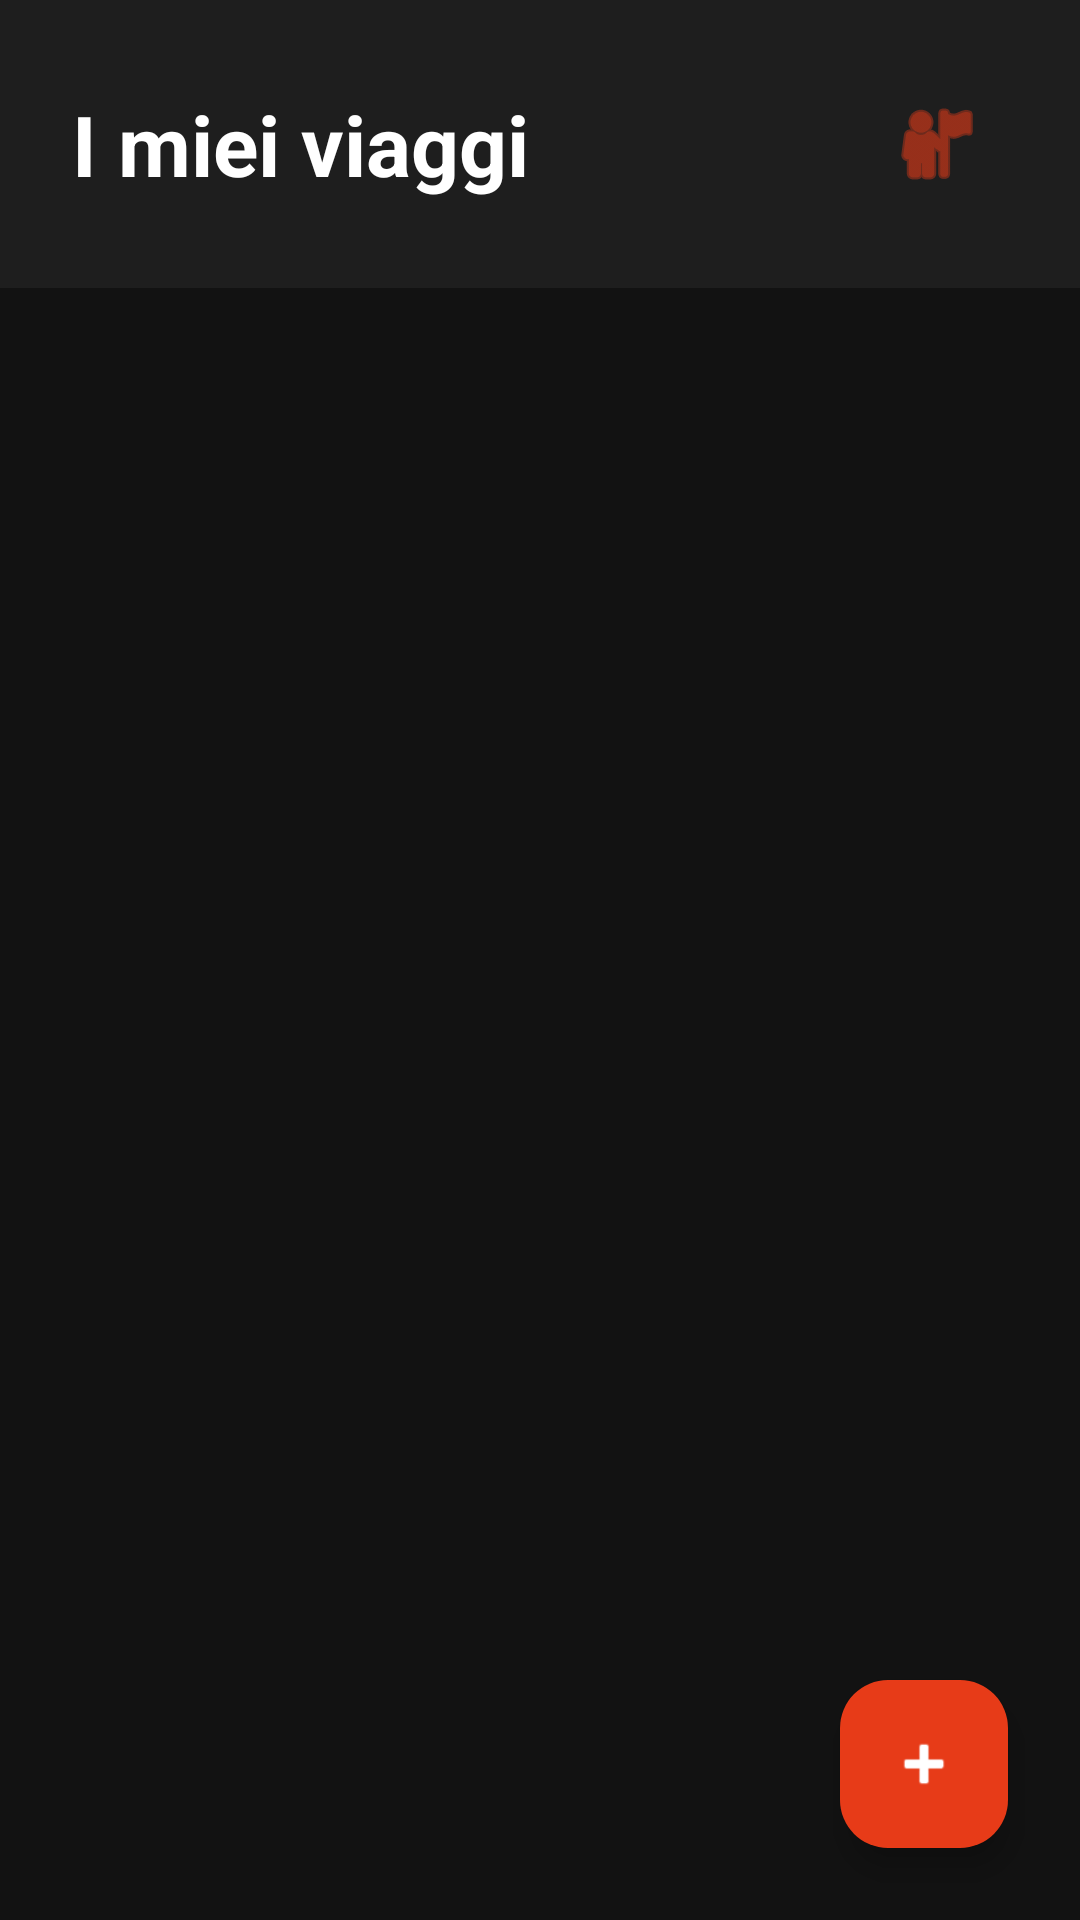

Icon bounding boxes for this 1080 × 1920 phone screenshot, format (x1, y1, x2, y2):
Aggiungi un nuovo viaggio: (840, 1680, 1008, 1848)
Gestisci il tuo profilo e l'accesso: (901, 108, 973, 180)
